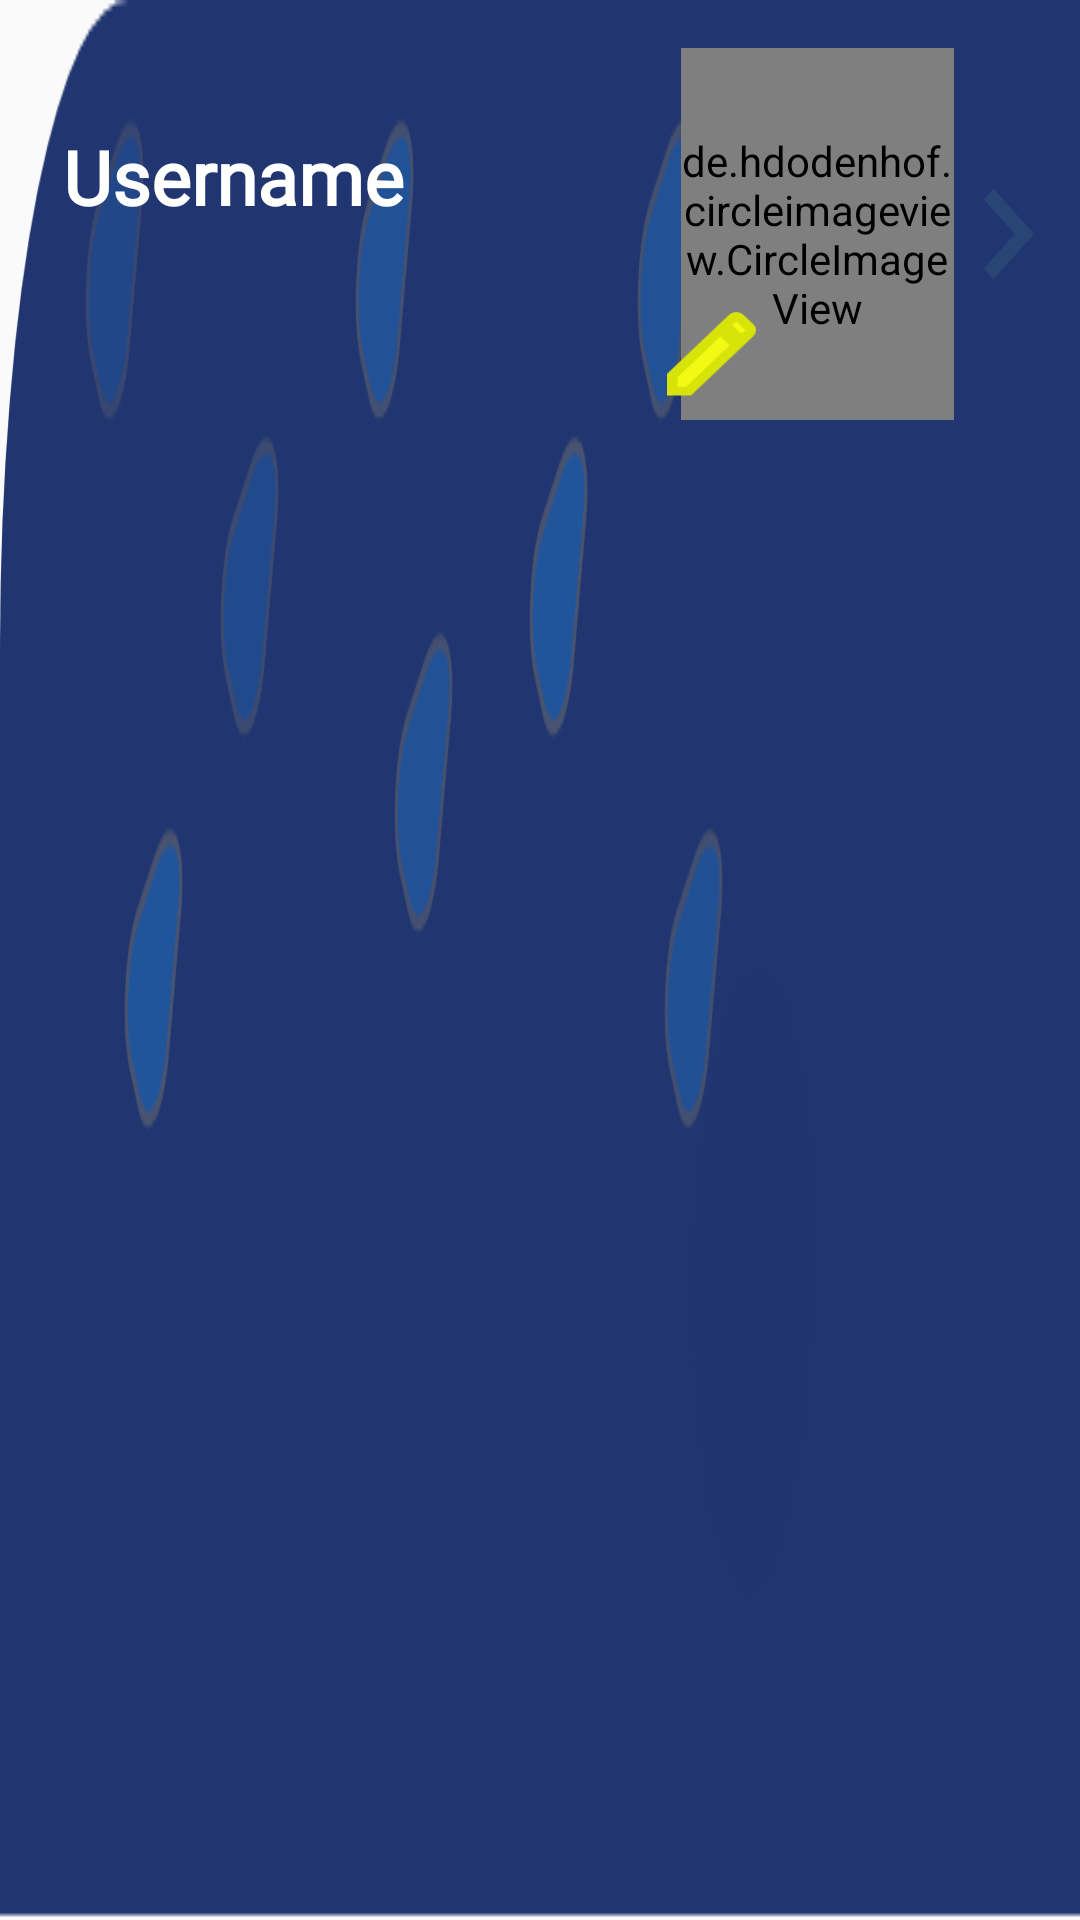

Icon bounding boxes for this 1080 x 1920 phone screenshot, format {"left": x1, "top": y1, "right": x2, "bottom": y2}:
mode edit: {"left": 667, "top": 312, "right": 756, "bottom": 396}
